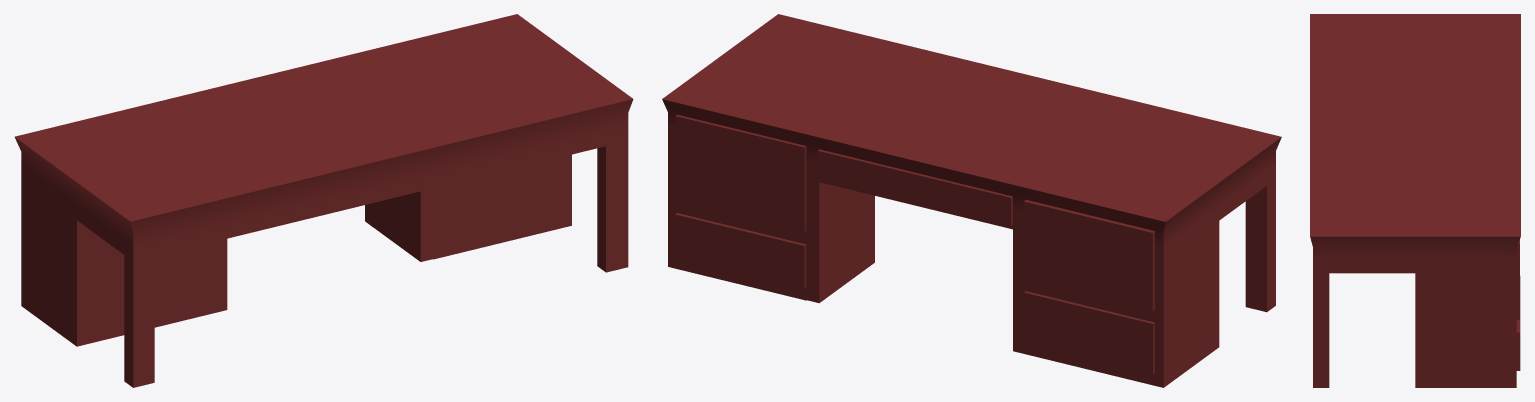
File: desk.fbx
3 renders of one model, left to right at view 1: azimuth 30°, elevation 25°; view 2: azimuth 150°, elevation 25°; view 3: azimuth 270°, elevation 25°, orthographic. The views are drawn at different scales.
Visible parts, largest first — view 1: pCube1; view 2: pCube1; view 3: pCube1.
Part boxes in pixels (x1,y1,x2,y2): pCube1: (14, 14, 633, 387); pCube1: (662, 14, 1281, 387); pCube1: (1310, 14, 1520, 387).
Bounding box in the file's own units: 25 × 8.01 × 10.
